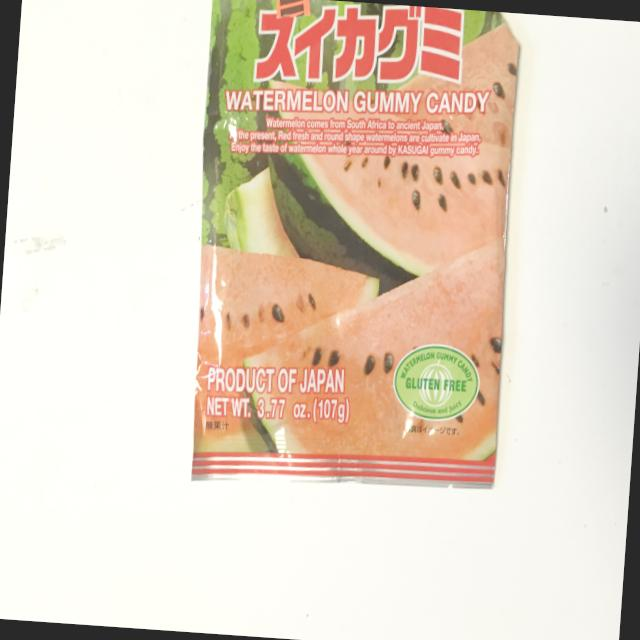Plastic: (128, 0, 569, 573)
